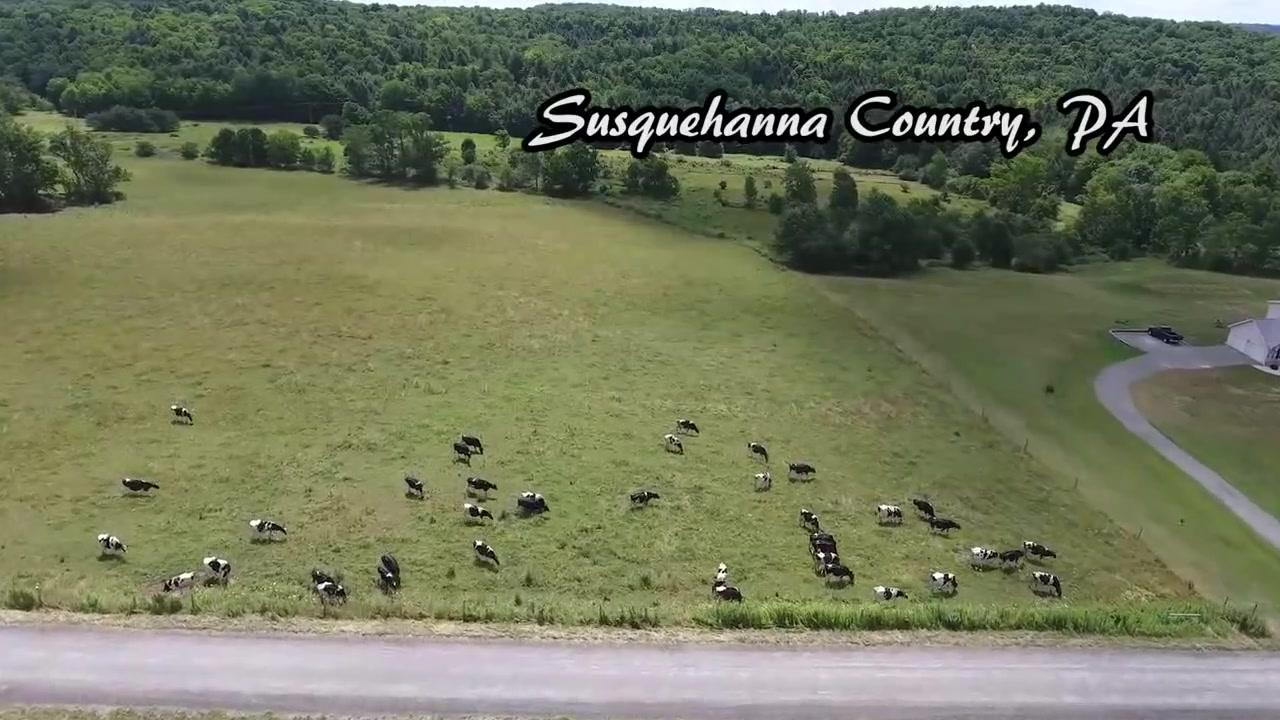cow: (1027, 570, 1065, 599), (248, 517, 290, 543), (314, 581, 350, 608), (201, 555, 232, 586), (162, 568, 197, 595), (120, 475, 162, 497), (1024, 538, 1059, 564), (96, 533, 129, 560), (967, 546, 1000, 573), (471, 539, 502, 567), (465, 476, 498, 501), (823, 562, 857, 586), (462, 501, 495, 525), (785, 459, 818, 483), (873, 501, 904, 525), (928, 570, 960, 593), (927, 517, 963, 537), (520, 490, 551, 513), (629, 489, 661, 511), (872, 584, 911, 602), (377, 565, 400, 595), (403, 473, 427, 501), (710, 584, 745, 603), (798, 507, 823, 533), (169, 404, 195, 428), (911, 497, 938, 520), (516, 496, 544, 517), (461, 432, 486, 455), (746, 440, 769, 465), (999, 549, 1026, 570), (381, 551, 401, 577), (663, 433, 685, 456), (753, 471, 775, 494), (452, 442, 473, 466), (814, 551, 840, 570), (310, 566, 335, 585), (712, 560, 731, 585), (676, 418, 701, 435), (811, 541, 837, 553)
